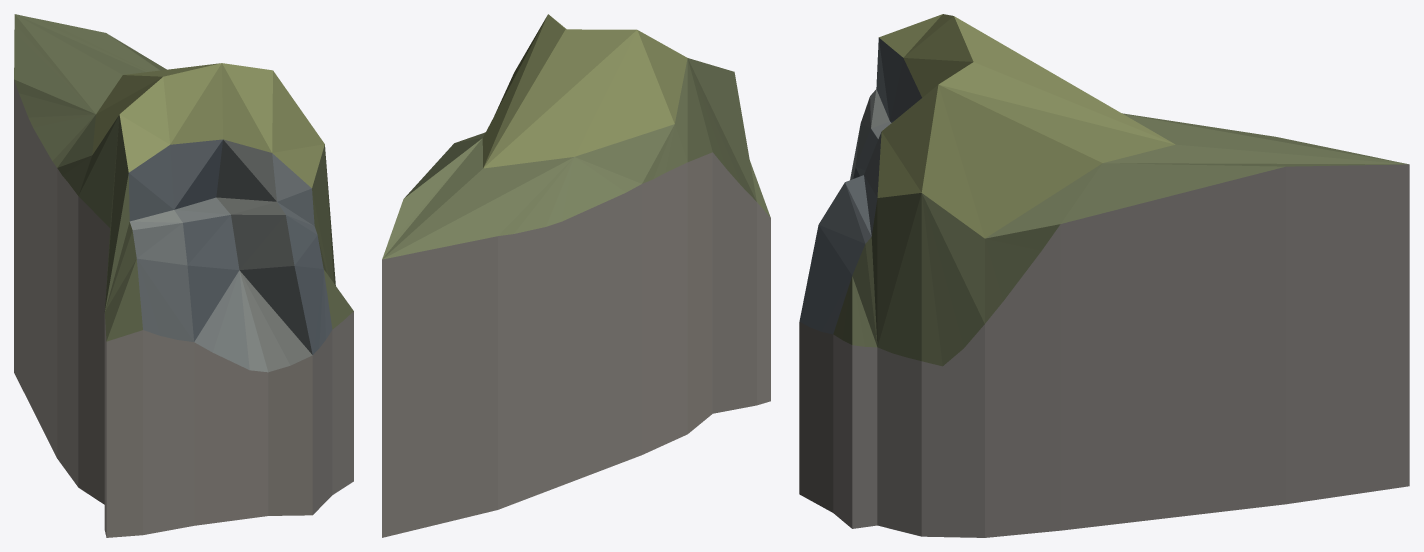
File: cliff_central_wall.glb
The picture shows the model from 3 angles, left to right: view 1: azimuth 30°, elevation 25°; view 2: azimuth 150°, elevation 25°; view 3: azimuth 270°, elevation 25°; orthographic projection. The views are drawn at different scales.
Parts seen in each view (by area): view 1: cliff_central_wall; view 2: cliff_central_wall; view 3: cliff_central_wall.
Part boxes in pixels (x1,y1,x2,y2): cliff_central_wall: (14,14,353,537); cliff_central_wall: (382,14,770,537); cliff_central_wall: (799,14,1409,537).
Bounding box in the file's own units: 51.4 × 76.39 × 96.56.
